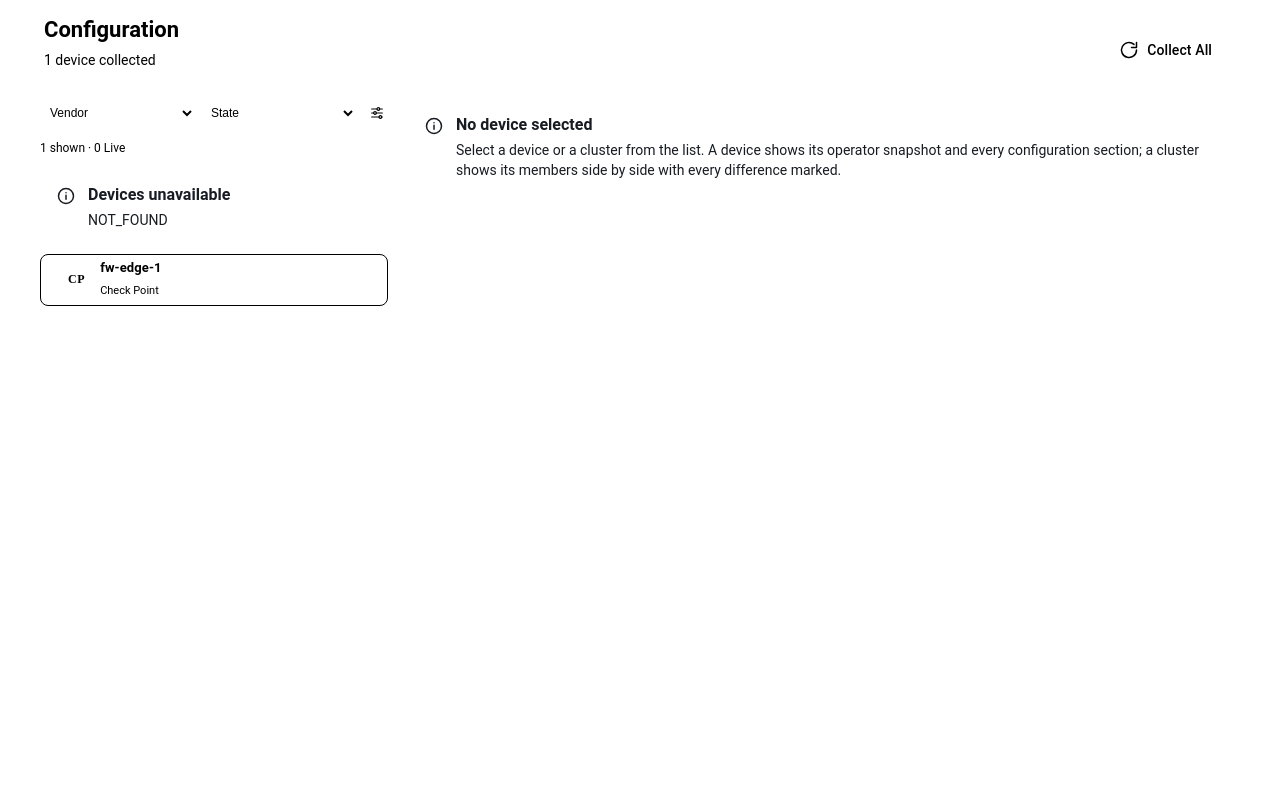
it: ConfigurationScreen device selection and panels › fetches and renders a selected Check Point device's index, withheld count and sanitized text
Click the text "fw-edge-1" at coordinates (131, 268), box [100, 259, 162, 277]
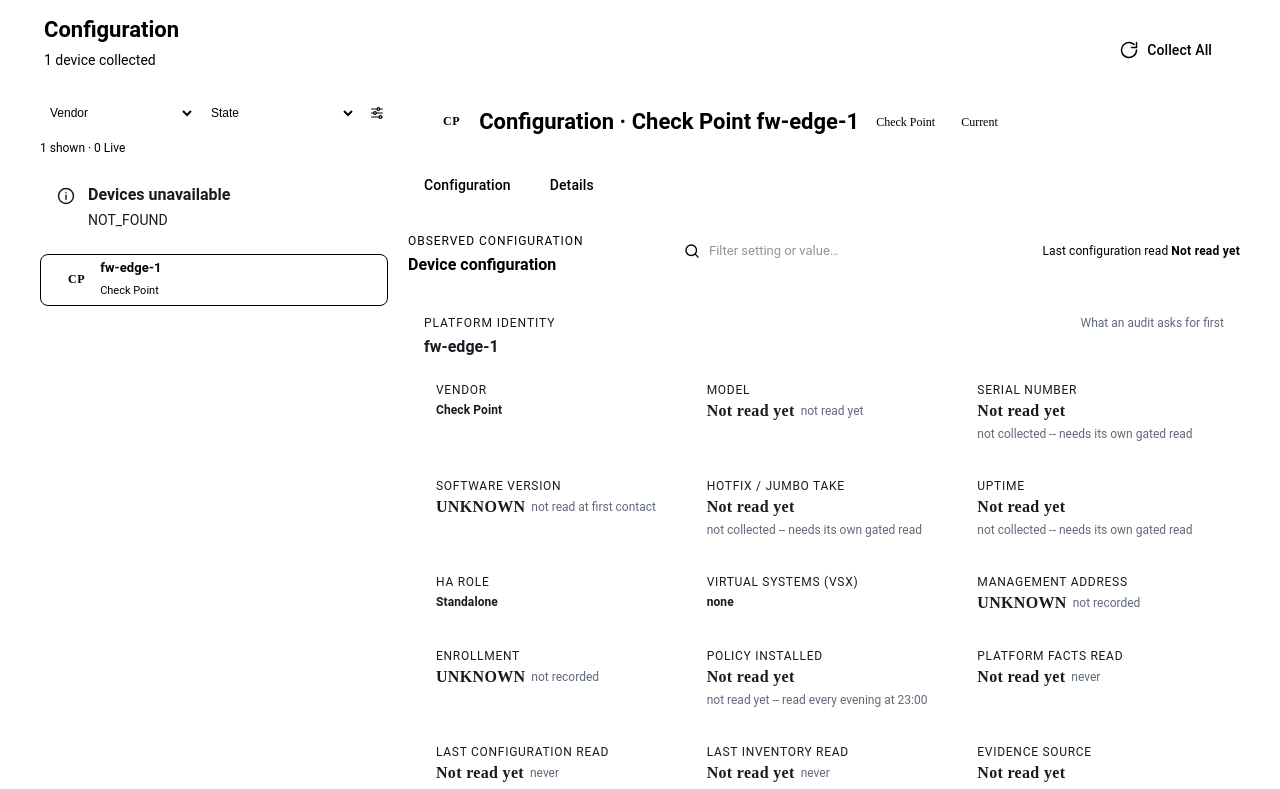
Click the tab "Details" at coordinates (572, 186), box [527, 162, 617, 210]
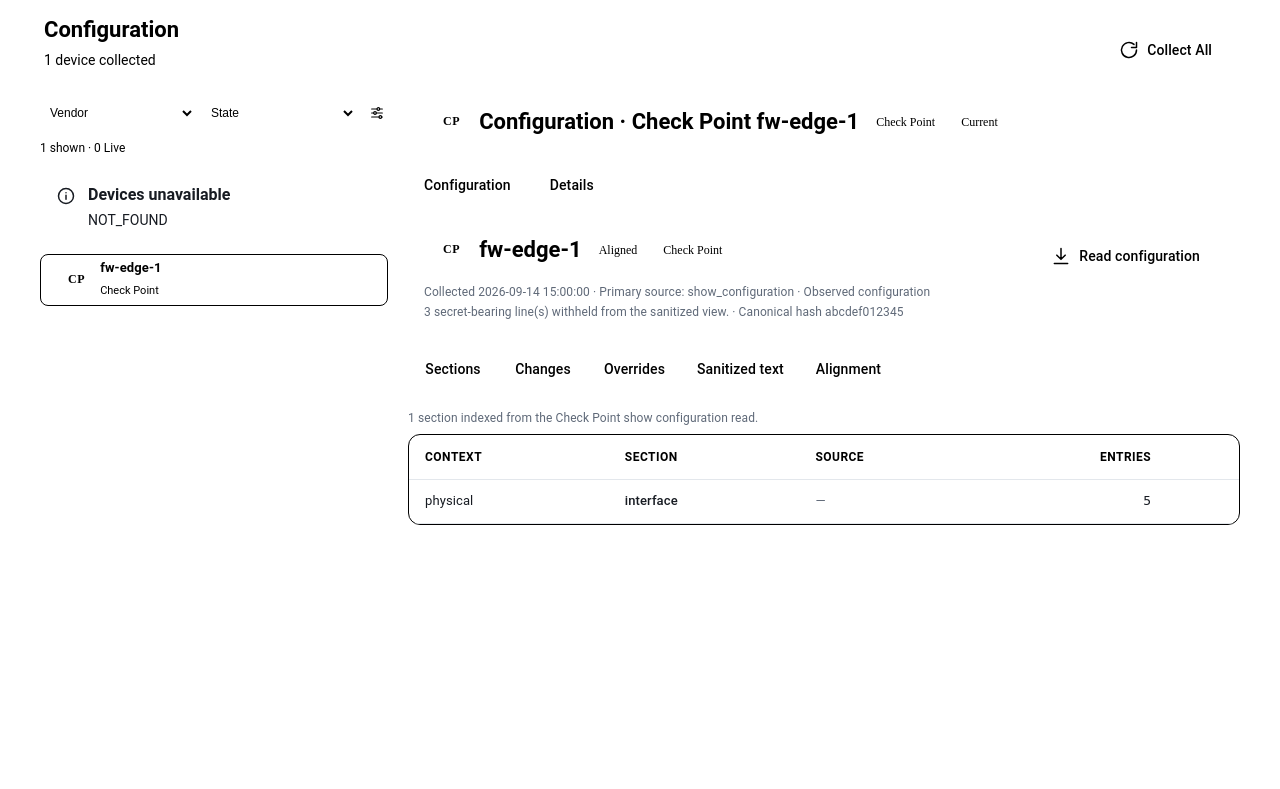
Result: the text "interface" is shown at [609, 479, 799, 523]
Result: the text "3 secret-bearing line(s) withheld" is shown at [424, 305, 729, 319]
Click the tab "Sanitized text" at coordinates (740, 370), box [681, 346, 800, 394]
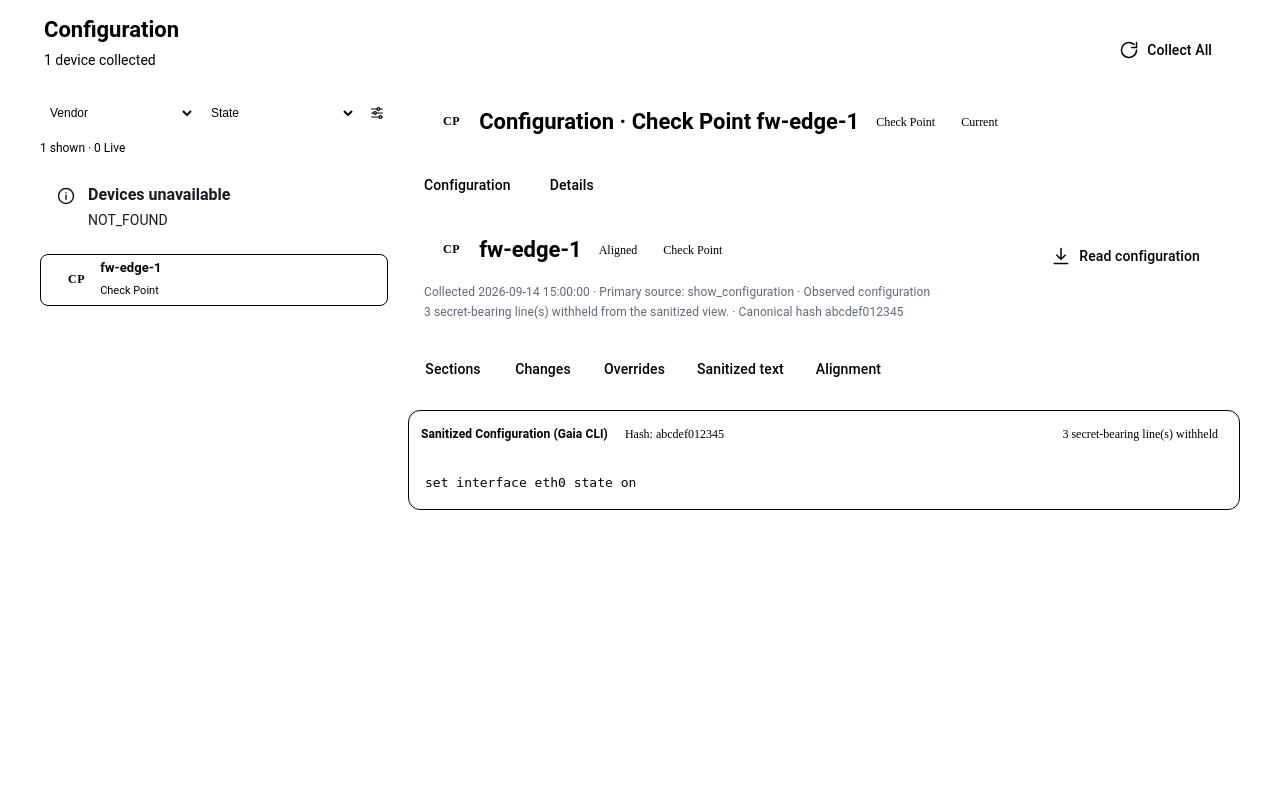
Result: the text "set interface eth0 state on" is shown at [425, 475, 636, 490]
